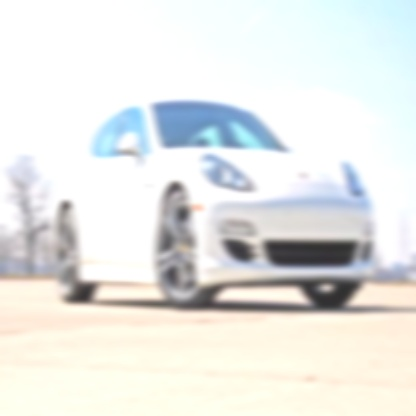Vehicle: (51, 97, 376, 311)
